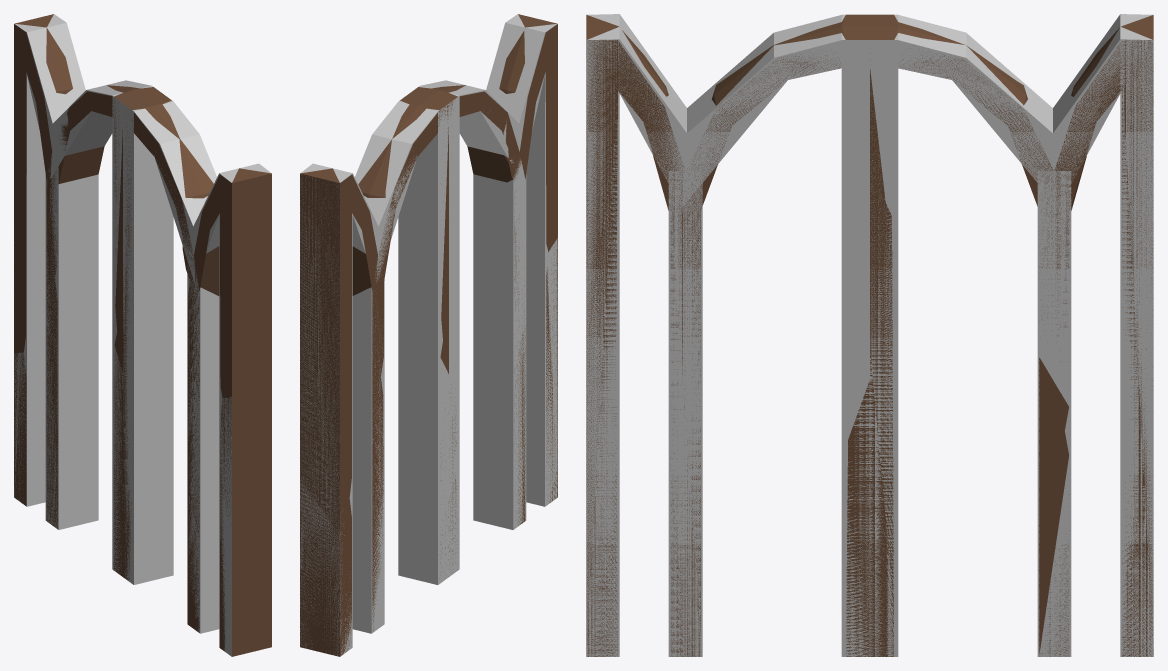
File: SM_Bld_Wall_Frame_03.fbx
3 views of the same model, side by side, from view 1: azimuth 30°, elevation 25°; view 2: azimuth 150°, elevation 25°; view 3: azimuth 270°, elevation 25° (orthographic). The views are drawn at different scales.
Visible parts, largest first — view 1: SM_Bld_Wall_Frame_03_ConvexHulls, SM_Bld_Wall_Frame_03; view 2: SM_Bld_Wall_Frame_03_ConvexHulls, SM_Bld_Wall_Frame_03; view 3: SM_Bld_Wall_Frame_03_ConvexHulls, SM_Bld_Wall_Frame_03.
Boxes of the visible parts, x1,y1,x2,y2 form: SM_Bld_Wall_Frame_03_ConvexHulls: (14, 14, 270, 656); SM_Bld_Wall_Frame_03: (14, 14, 271, 656); SM_Bld_Wall_Frame_03_ConvexHulls: (300, 14, 557, 656); SM_Bld_Wall_Frame_03: (300, 14, 557, 656); SM_Bld_Wall_Frame_03_ConvexHulls: (586, 14, 1153, 656); SM_Bld_Wall_Frame_03: (586, 14, 1153, 656).
Size of the model in its own units: 26.42 by 250 by 300.
Materials: 2 (1 with a texture image).
